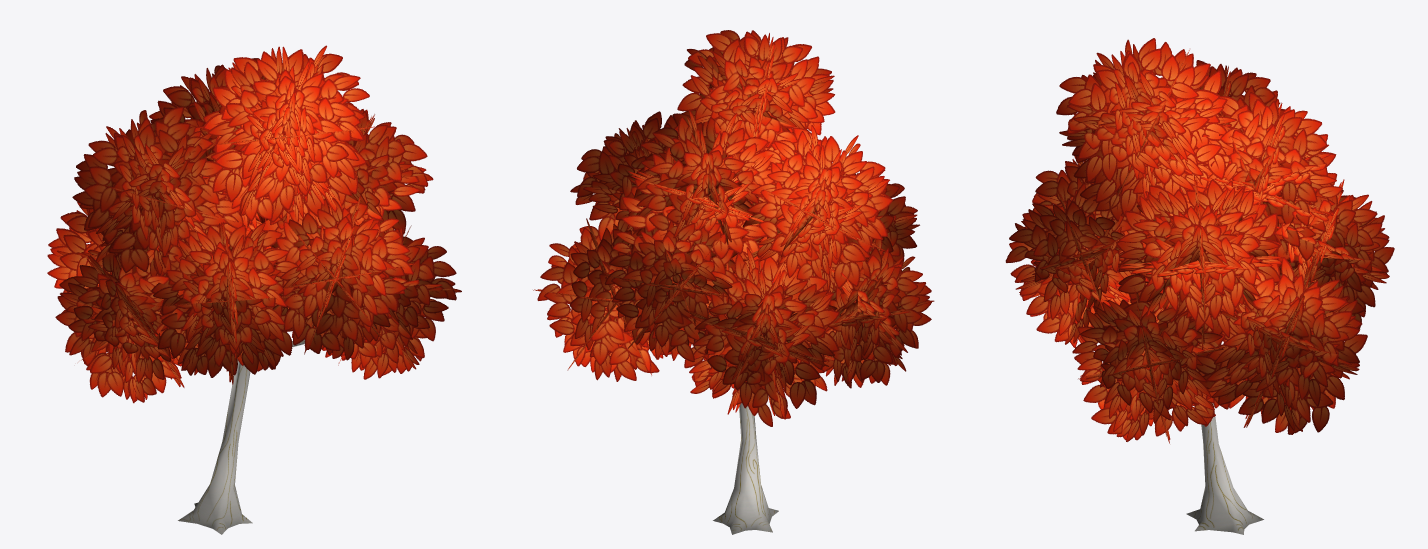
File: LeafTree2.fbx
3 views of the same model, side by side, from view 1: azimuth 30°, elevation 25°; view 2: azimuth 150°, elevation 25°; view 3: azimuth 270°, elevation 25° (orthographic). The views are drawn at different scales.
Parts seen in each view (by area): view 1: LeafTree2; view 2: LeafTree2; view 3: LeafTree2.
Part boxes in pixels (bbox=[...]): LeafTree2: bbox=[47, 45, 461, 534]; LeafTree2: bbox=[533, 30, 934, 534]; LeafTree2: bbox=[1005, 38, 1394, 534].
Bounding box in the file's own units: 32.67 × 39.27 × 29.93.
